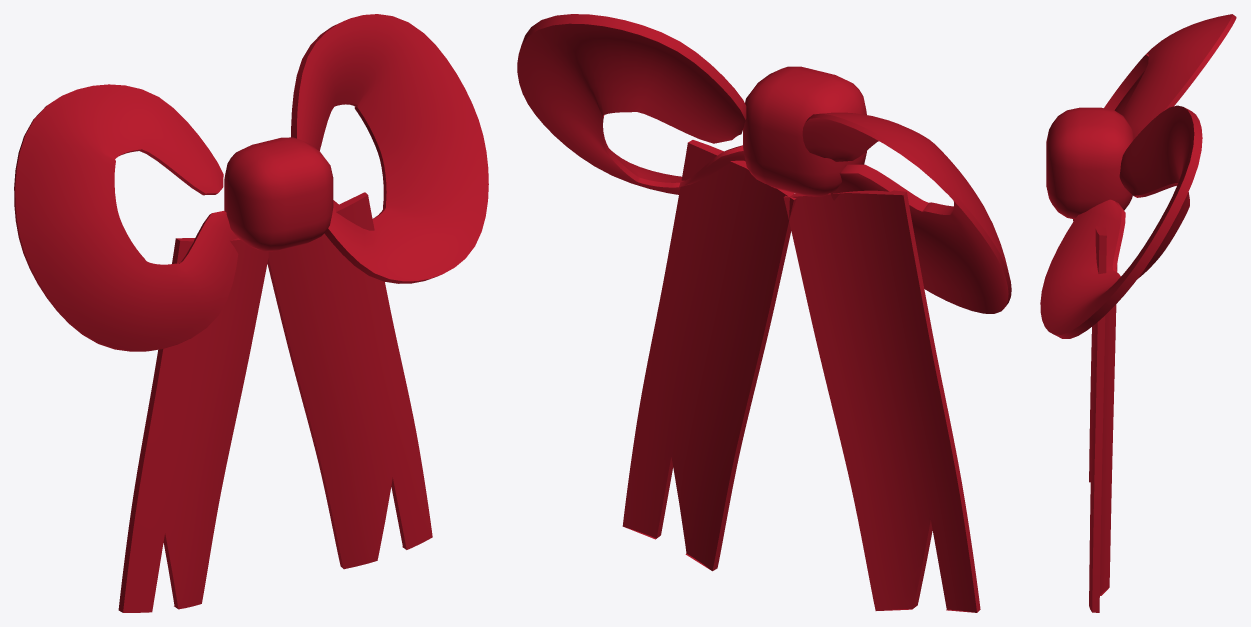
Rendered from tail_bow.glb.
3 views of the same model, side by side, from view 1: azimuth 30°, elevation 25°; view 2: azimuth 150°, elevation 25°; view 3: azimuth 270°, elevation 25° (orthographic). The views are drawn at different scales.
Parts seen in each view (by area): view 1: TailBow; view 2: TailBow; view 3: TailBow.
Boxes of the visible parts, <box> form: TailBow: <box>14,14,488,612</box>; TailBow: <box>517,14,1011,612</box>; TailBow: <box>1040,14,1236,612</box>.
Bounding box in the file's own units: 0.146 × 0.161 × 0.0577.
